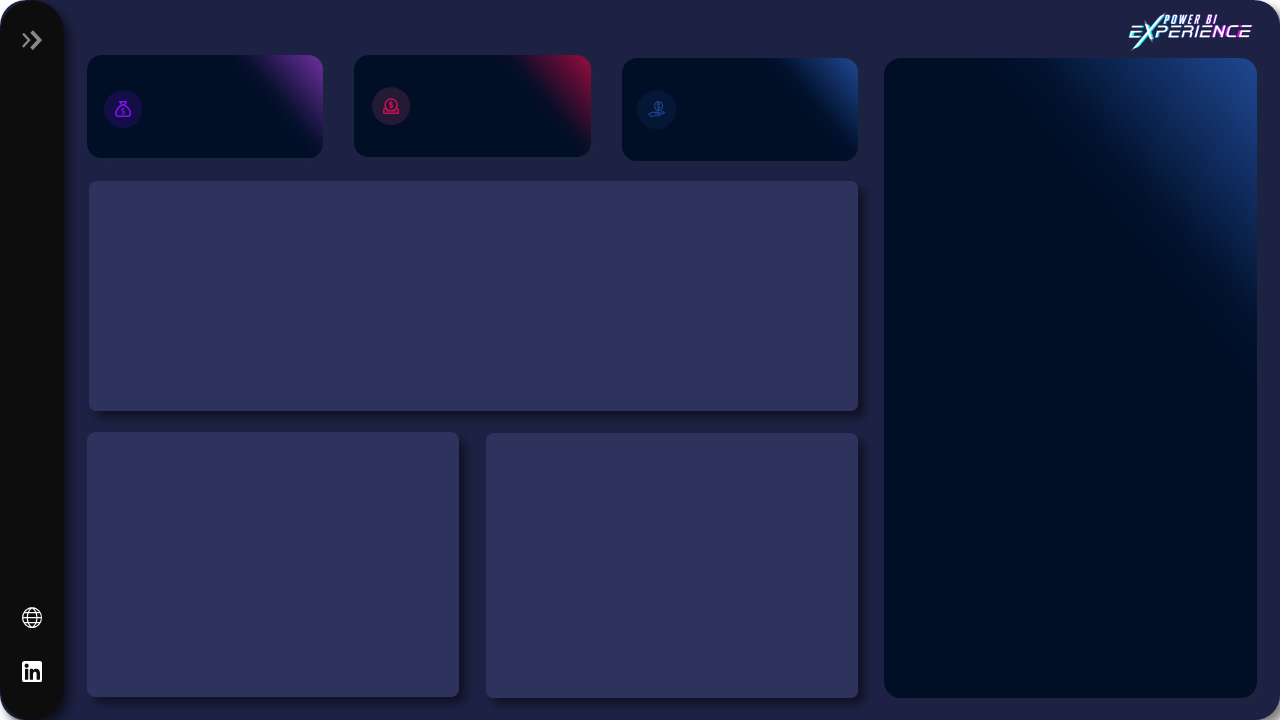

The dashboard page shown, as its layout file describes it:
{"tool":"powerbi","page":{"name":"Dark","canvas":[1280,720],"ordinal":0},"visuals":[{"type":"card","fields":{"Values":["Sum(Receita.Receita)"]},"box":[137.1,57.4,188.7,100.2],"z":0},{"type":"barChart","title":"Receita TOP 5 Grupo Produto","fields":{"Y":["Sum(Receita.Receita)"],"Category":["Cadastro de Produtos.Grupo Produto"]},"box":[108.9,454.2,330.7,223.7],"z":1000},{"type":"pivotTable","fields":{"Rows":["Receita.Supervisor","Receita.Vendedor"],"Values":["Sum(Receita.Receita)","Sum(Receita.Custo)"]},"box":[489.2,442.6,365.7,246.1],"z":2000},{"type":"areaChart","title":"Receita por Ano, Trimestre e Mês","fields":{"Category":["Receita.Data.Variation.Hierarquia de datas.Ano","Receita.Data.Variation.Hierarquia de datas.Trimestre","Receita.Data.Variation.Hierarquia de datas.Mês","Receita.Data.Variation.Hierarquia de datas.Dia"],"Y":["Sum(Receita.Receita)"]},"box":[108.9,188.7,729.5,216.9],"z":3000},{"type":"card","fields":{"Values":["Sum(Receita.Custo)"]},"box":[410.5,57.4,181.9,100.2],"z":4000},{"type":"card","fields":{"Values":["Receita.Margem"]},"box":[668.2,57.4,196.5,100.2],"z":5000},{"type":"barChart","title":"Margem TOP 5 Grupo Produto","fields":{"Y":["Receita.Margem"],"Category":["Cadastro de Produtos.Grupo Produto"]},"box":[906.5,284,330.7,173.1],"z":6000},{"type":"barChart","fields":{"Y":["Receita.Margem"],"Category":["Receita.Vendedor"],"Series":["Receita.Supervisor"]},"box":[906.5,496.1,330.7,168.3],"z":7000},{"type":"donutChart","fields":{"Category":["Cadastro de Produtos.Linha Produto"],"Y":["Receita.Margem"]},"box":[906.5,94.4,331.7,149.8],"z":8000},{"type":"slicer","fields":{"Values":["Receita.Data.Variation.Hierarquia de datas.Mês"]},"box":[877.3,11.7,137.1,43.8],"z":9000},{"type":"textbox","box":[89.5,11.7,281.1,43.8],"z":10000},{"type":"actionButton","box":[7,19.3,49.2,44.8],"z":11000},{"type":"actionButton","box":[7,591.8,49.2,44.8],"z":12000},{"type":"actionButton","box":[7,645.4,49.2,43],"z":12001}]}

Visuals, with their boxes on the page's 1280x720 design canvas (x1, y1, x2, y2). These are canvas units, not pixel positions in the 1280x720 screenshot, which may show the page scaled, cropped or inside an application window:
card - Sum(Receita.Receita): [left=137, top=57, right=326, bottom=158]
"Receita TOP 5 Grupo Produto" barChart: [left=109, top=454, right=440, bottom=678]
pivotTable - Receita.Supervisor x Receita.Vendedor: [left=489, top=443, right=855, bottom=689]
"Receita por Ano, Trimestre e Mês" areaChart: [left=109, top=189, right=838, bottom=406]
card - Sum(Receita.Custo): [left=410, top=57, right=592, bottom=158]
card - Receita.Margem: [left=668, top=57, right=865, bottom=158]
"Margem TOP 5 Grupo Produto" barChart: [left=906, top=284, right=1237, bottom=457]
barChart - Receita.Margem x Receita.Vendedor: [left=906, top=496, right=1237, bottom=664]
donutChart - Cadastro de Produtos.Linha Produto x Receita.Margem: [left=906, top=94, right=1238, bottom=244]
slicer - Receita.Data.Variation.Hierarquia de datas.Mês: [left=877, top=12, right=1014, bottom=56]
textbox: [left=90, top=12, right=371, bottom=56]
actionButton: [left=7, top=19, right=56, bottom=64]
actionButton: [left=7, top=592, right=56, bottom=637]
actionButton: [left=7, top=645, right=56, bottom=688]
